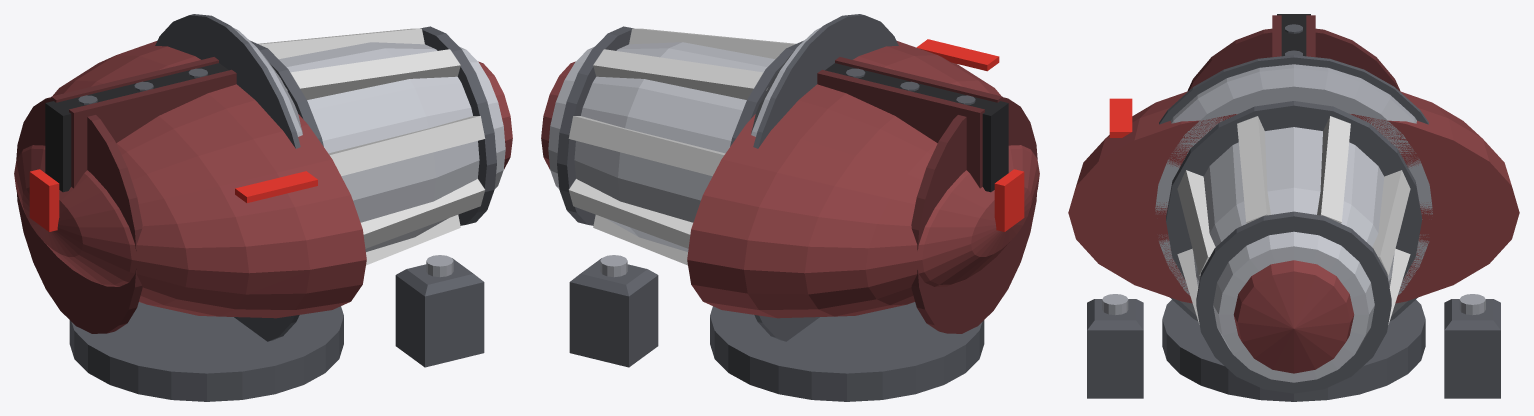
The model's file is vge_egun_anticraft_caster.obj.
3 views of the same model, side by side, from view 1: azimuth 30°, elevation 25°; view 2: azimuth 150°, elevation 25°; view 3: azimuth 270°, elevation 25° (orthographic). The views are drawn at different scales.
Parts seen in each view (by area): view 1: vge_egun_anticraft_caster_1, vge_egun_anticraft_caster_0, vge_egun_anticraft_caster_11, vge_egun_anticraft_caster_8, vge_egun_anticraft_caster_24, vge_egun_anticraft_caster_10, vge_egun_anticraft_caster_3, vge_egun_anticraft_caster_19, vge_egun_anticraft_caster_18, vge_egun_anticraft_caster_2, vge_egun_anticraft_caster_21, vge_egun_anticraft_caster_17 (+10 smaller); view 2: vge_egun_anticraft_caster_1, vge_egun_anticraft_caster_0, vge_egun_anticraft_caster_11, vge_egun_anticraft_caster_8, vge_egun_anticraft_caster_27, vge_egun_anticraft_caster_10, vge_egun_anticraft_caster_4, vge_egun_anticraft_caster_12, vge_egun_anticraft_caster_13, vge_egun_anticraft_caster_2, vge_egun_anticraft_caster_21, vge_egun_anticraft_caster_14 (+10 smaller); view 3: vge_egun_anticraft_caster_1, vge_egun_anticraft_caster_11, vge_egun_anticraft_caster_9, vge_egun_anticraft_caster_23, vge_egun_anticraft_caster_21, vge_egun_anticraft_caster_0, vge_egun_anticraft_caster_20, vge_egun_anticraft_caster_24, vge_egun_anticraft_caster_27, vge_egun_anticraft_caster_8, vge_egun_anticraft_caster_10, vge_egun_anticraft_caster_12 (+13 smaller).
Part boxes in pixels (bbox=[...]): vge_egun_anticraft_caster_1: bbox=[14, 41, 366, 318]; vge_egun_anticraft_caster_0: bbox=[69, 302, 343, 401]; vge_egun_anticraft_caster_11: bbox=[279, 42, 505, 251]; vge_egun_anticraft_caster_8: bbox=[16, 97, 142, 333]; vge_egun_anticraft_caster_24: bbox=[395, 275, 484, 367]; vge_egun_anticraft_caster_10: bbox=[155, 14, 300, 341]; vge_egun_anticraft_caster_3: bbox=[69, 69, 236, 188]; vge_egun_anticraft_caster_19: bbox=[286, 49, 460, 99]; vge_egun_anticraft_caster_18: bbox=[328, 116, 485, 176]; vge_egun_anticraft_caster_2: bbox=[45, 63, 228, 192]; vge_egun_anticraft_caster_21: bbox=[420, 26, 496, 225]; vge_egun_anticraft_caster_17: bbox=[361, 179, 484, 248]; vge_egun_anticraft_caster_1: bbox=[687, 41, 1039, 318]; vge_egun_anticraft_caster_0: bbox=[710, 302, 984, 401]; vge_egun_anticraft_caster_11: bbox=[548, 42, 774, 251]; vge_egun_anticraft_caster_8: bbox=[911, 97, 1037, 333]; vge_egun_anticraft_caster_27: bbox=[569, 275, 658, 367]; vge_egun_anticraft_caster_10: bbox=[753, 14, 898, 341]; vge_egun_anticraft_caster_4: bbox=[817, 69, 984, 188]; vge_egun_anticraft_caster_12: bbox=[593, 49, 767, 99]; vge_egun_anticraft_caster_13: bbox=[568, 116, 725, 176]; vge_egun_anticraft_caster_2: bbox=[825, 63, 1008, 192]; vge_egun_anticraft_caster_21: bbox=[557, 26, 633, 225]; vge_egun_anticraft_caster_14: bbox=[569, 179, 692, 248]; vge_egun_anticraft_caster_1: bbox=[1068, 91, 1519, 303]; vge_egun_anticraft_caster_11: bbox=[1193, 127, 1394, 382]; vge_egun_anticraft_caster_9: bbox=[1155, 64, 1432, 315]; vge_egun_anticraft_caster_23: bbox=[1233, 260, 1354, 373]; vge_egun_anticraft_caster_21: bbox=[1196, 211, 1391, 393]; vge_egun_anticraft_caster_0: bbox=[1162, 300, 1425, 401]; vge_egun_anticraft_caster_20: bbox=[1166, 101, 1421, 279]; vge_egun_anticraft_caster_24: bbox=[1087, 330, 1143, 398]; vge_egun_anticraft_caster_27: bbox=[1444, 330, 1500, 398]; vge_egun_anticraft_caster_8: bbox=[1187, 28, 1400, 91]; vge_egun_anticraft_caster_10: bbox=[1159, 55, 1428, 321]; vge_egun_anticraft_caster_12: bbox=[1317, 116, 1350, 223].
Size of the model in its own units: 2.7 by 1.76 by 2.4.
